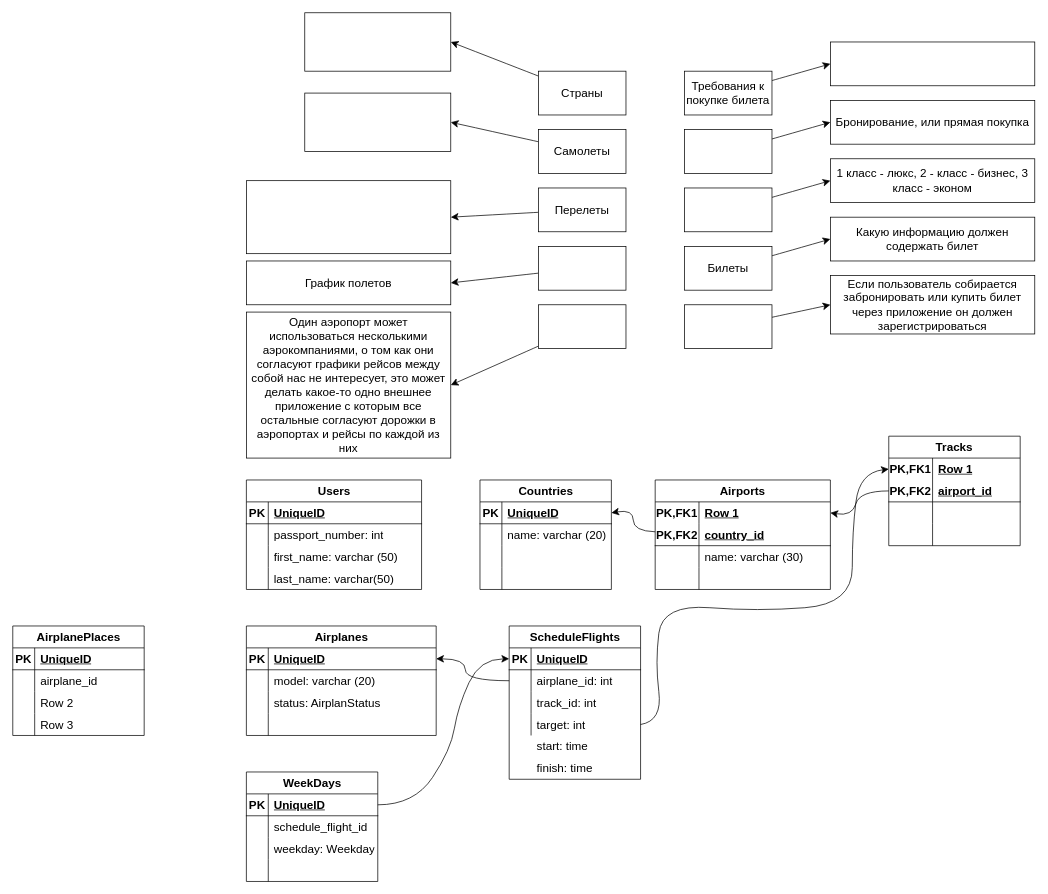
The diagram is 1048 pixels wide and 894 high, and some of its shapes have lost their labels. Here are the shapes that lost their labels. From the top down, the centre of each, then its label:
At [377,41]: "Страны в которых существует аэолклмпания".
At [932,63]: "Паспортные данные, для упрощения номер паспорта, имя и фамилия".
At [377,121]: "Самолеты находяшиеся в аэрокомпании".
At [728,151]: "Виды покупки билета".
At [348,217]: "Вылеты и прилеты учитываются только для этой аэрокомпании".
At [728,209]: "Виды мест (1, 2 класс и тп)".
At [582,268]: "Рейсы".
At [582,326]: "Аэропорты".
At [728,326]: "Юзеры".
